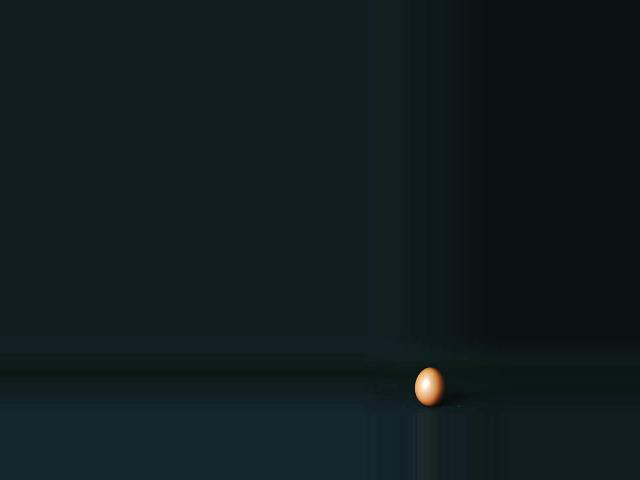egg: (415, 367, 445, 406)
